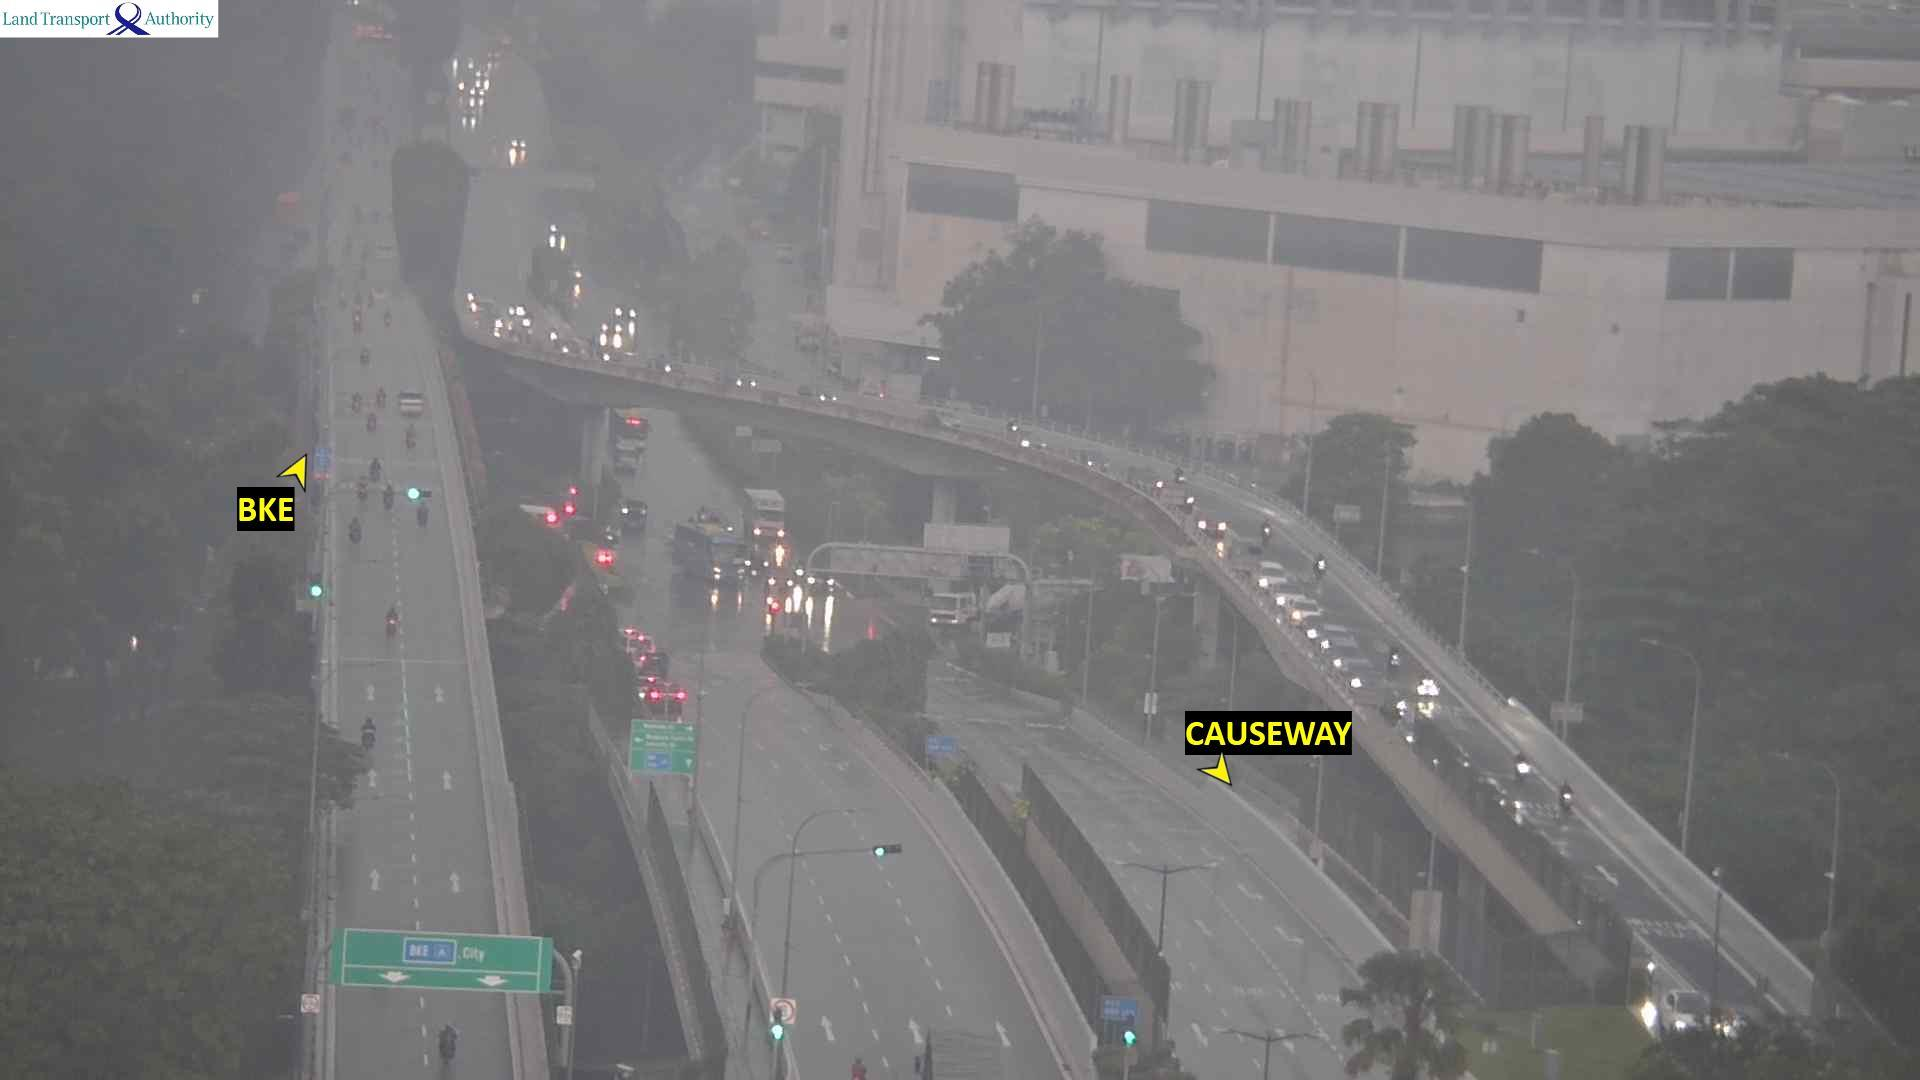vehicle-causeway-johor: (1255, 560, 1287, 589), (920, 407, 961, 430), (1197, 513, 1228, 537), (1290, 600, 1321, 622), (723, 371, 758, 390), (465, 290, 495, 314), (800, 389, 841, 405), (1559, 777, 1575, 810), (654, 353, 678, 375), (1514, 749, 1530, 781), (1266, 514, 1283, 542), (1079, 452, 1105, 469), (1025, 438, 1047, 456), (1019, 430, 1038, 448), (1313, 553, 1327, 576), (1182, 492, 1197, 509), (509, 303, 527, 318), (1389, 644, 1399, 667), (1171, 467, 1185, 484), (493, 320, 505, 338)
vehicle-causeway-singapore: (634, 678, 683, 709), (439, 1022, 456, 1064), (398, 390, 425, 417), (361, 717, 376, 749), (849, 1058, 869, 1080), (385, 609, 400, 636), (417, 501, 430, 529), (349, 517, 361, 545), (382, 483, 393, 509), (405, 425, 415, 447), (357, 477, 368, 498), (369, 458, 380, 479), (377, 388, 386, 406), (367, 411, 375, 431), (353, 393, 360, 411)
